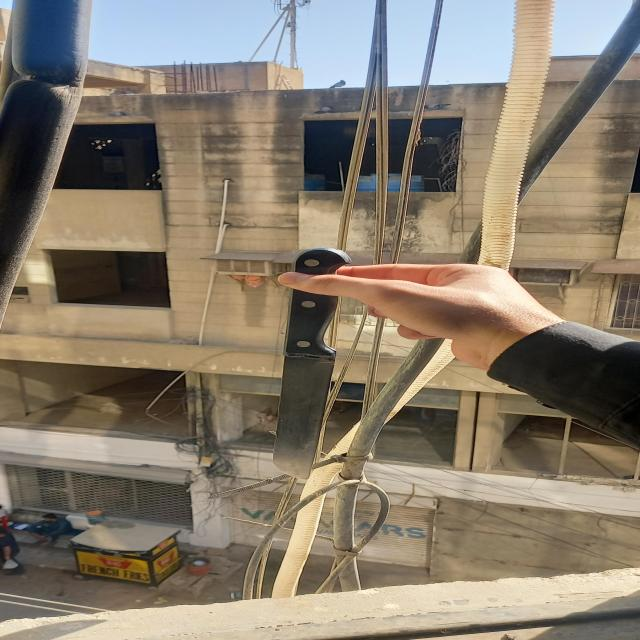Knife: (273, 247, 352, 479)
Person: (280, 263, 640, 453)
